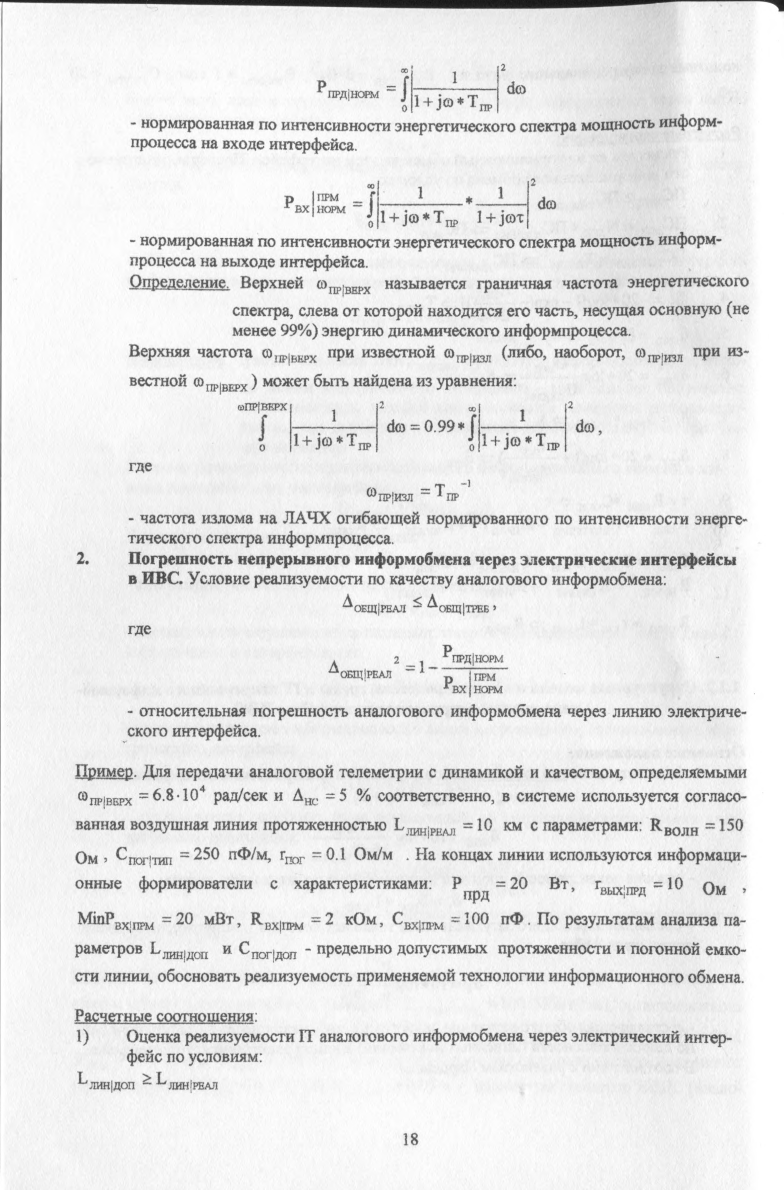P.вх.прм.норм: (274, 186, 349, 218), (442, 673, 503, 698)
P.прд.норм: (312, 74, 382, 104), (443, 639, 504, 665)
T.пр: (433, 480, 460, 503), (536, 429, 560, 454), (345, 433, 370, 456), (467, 93, 495, 113), (436, 207, 459, 230)
group: (229, 394, 598, 463), (268, 170, 562, 234), (307, 53, 529, 117), (321, 632, 510, 701), (353, 472, 476, 510)
Δ.общ.реал: (326, 658, 393, 680)
τ: (517, 211, 527, 226)
ω.пр.верх: (234, 400, 288, 414)
ω.пр.изл: (360, 485, 415, 503)
